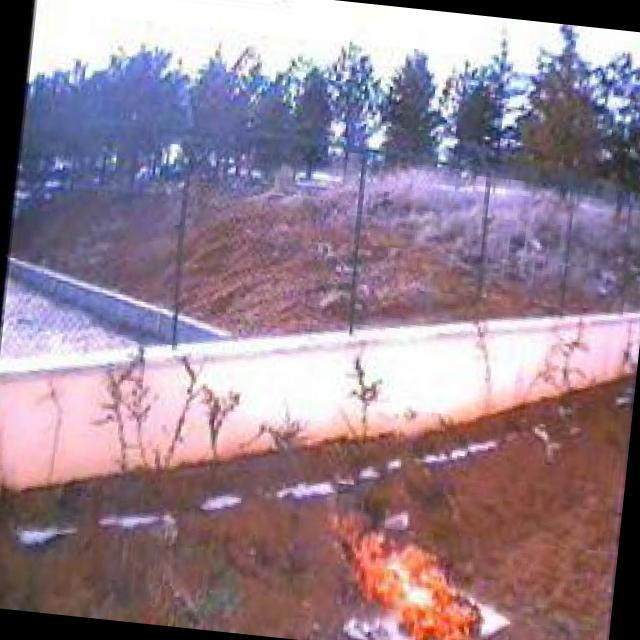Fire: (311, 493, 495, 640)
